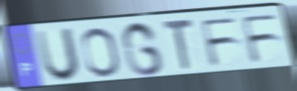F: (239, 11, 281, 66), (198, 15, 240, 69)
G: (120, 20, 166, 78)
O: (80, 26, 123, 79)
T: (161, 17, 196, 74)
U: (34, 26, 83, 84)
